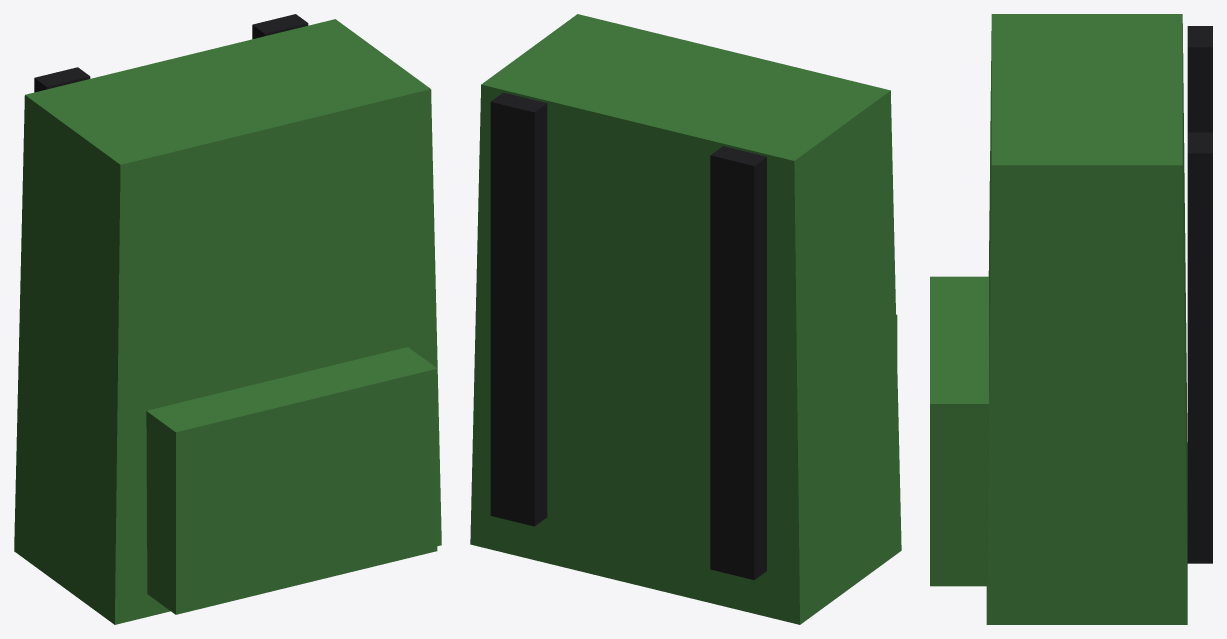
File: GD_Backpack_01.glb
The picture shows the model from 3 angles, left to right: view 1: azimuth 30°, elevation 25°; view 2: azimuth 150°, elevation 25°; view 3: azimuth 270°, elevation 25°; orthographic projection.
Visible parts, largest first — view 1: GD_Backpack_01; view 2: GD_Backpack_01; view 3: GD_Backpack_01.
Part boxes in pixels (x1=…): GD_Backpack_01: x1=14, y1=14, x2=441, y2=624; GD_Backpack_01: x1=470, y1=14, x2=901, y2=624; GD_Backpack_01: x1=930, y1=14, x2=1212, y2=624.
Bounding box in the file's own units: 0.3 × 0.4 × 0.225.
1 material, 1 textured.
